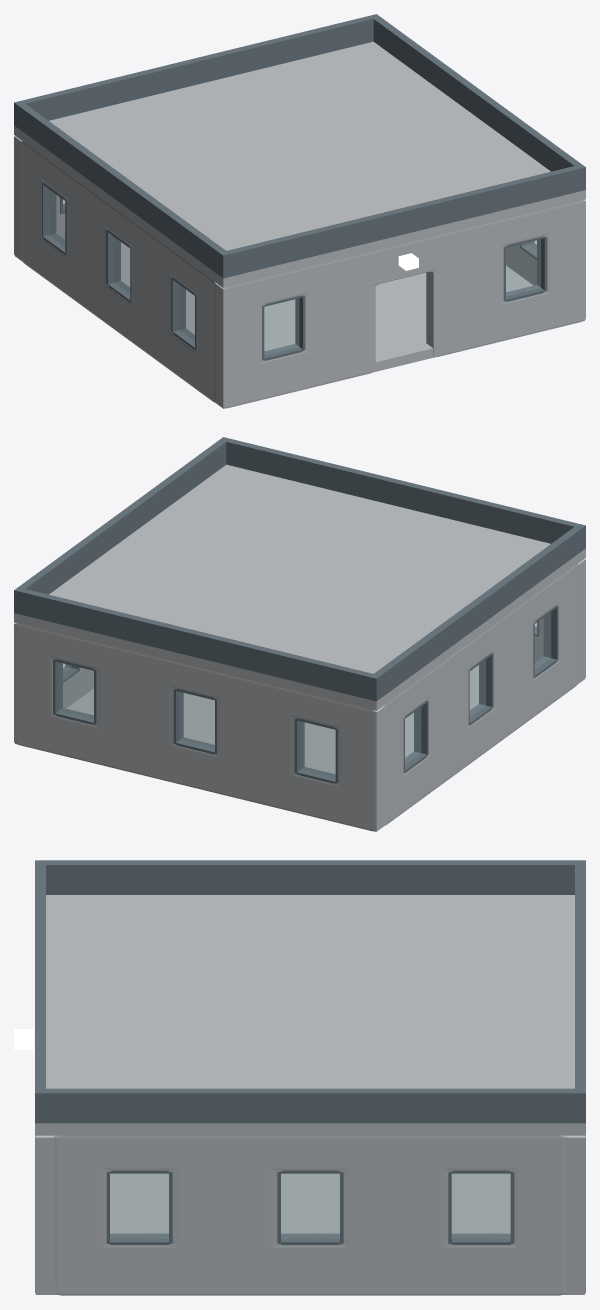
The model's file is bungalow_1_lod0.glb.
3 views of the same model, one above another, from view 1: azimuth 30°, elevation 25°; view 2: azimuth 150°, elevation 25°; view 3: azimuth 270°, elevation 25° (orthographic). The views are drawn at different scales.
Parts seen in each view (by area): view 1: Ceiling baked, Wall_0 baked, Wall_3 baked, Parapet baked, Parapet.002 baked, Floor baked, Parapet.001 baked, Parapet.003 baked, Glazing baked, Glazing.001 baked, Wall_1 baked, Wall_2 baked (+7 smaller); view 2: Ceiling baked, Wall_1 baked, Wall_3 baked, Parapet.002 baked, Parapet baked, Parapet.001 baked, Parapet.003 baked, Floor baked, Glazing.003 baked, Glazing.004 baked, Glazing.002 baked, Wall_0 baked (+9 smaller); view 3: Ceiling baked, Wall_2 baked, Parapet.003 baked, Parapet.001 baked, Floor baked, Glazing.005 baked, Glazing.006 baked, Glazing.007 baked, Wall_0 baked, Wall_1 baked, Parapet baked, Parapet.002 baked (+3 smaller).
Part boxes in pixels (x1,y1,x2,y2): Ceiling baked: [14, 41, 585, 287]; Wall_0 baked: [216, 200, 585, 408]; Wall_3 baked: [21, 141, 216, 402]; Parapet baked: [219, 164, 585, 278]; Parapet.002 baked: [14, 14, 380, 127]; Floor baked: [15, 242, 584, 408]; Parapet.001 baked: [18, 104, 225, 274]; Parapet.003 baked: [373, 17, 581, 171]; Glazing baked: [264, 299, 299, 354]; Glazing.001 baked: [506, 239, 540, 295]; Wall_1 baked: [14, 136, 65, 259]; Wall_2 baked: [506, 244, 536, 285]; Ceiling baked: [14, 464, 585, 710]; Wall_1 baked: [14, 623, 383, 831]; Wall_3 baked: [383, 564, 578, 825]; Parapet.002 baked: [14, 587, 380, 701]; Parapet baked: [219, 437, 585, 550]; Parapet.001 baked: [374, 527, 581, 697]; Parapet.003 baked: [18, 440, 226, 594]; Floor baked: [15, 665, 584, 831]; Glazing.003 baked: [179, 692, 214, 748]; Glazing.004 baked: [300, 722, 335, 777]; Glazing.002 baked: [59, 662, 93, 718]; Wall_0 baked: [534, 559, 585, 682]; Ceiling baked: [35, 895, 585, 1135]; Wall_2 baked: [54, 1135, 566, 1295]; Parapet.003 baked: [46, 1088, 574, 1123]; Parapet.001 baked: [46, 860, 574, 894]; Floor baked: [36, 1173, 584, 1294]; Glazing.005 baked: [110, 1174, 168, 1238]; Glazing.006 baked: [281, 1174, 339, 1238]; Glazing.007 baked: [452, 1174, 510, 1238]; Wall_0 baked: [35, 1135, 54, 1293]; Wall_1 baked: [566, 1135, 585, 1293]; Parapet baked: [35, 860, 45, 1123]; Parapet.002 baked: [575, 860, 585, 1123].
Bounding box in the file's own units: 10 × 4.05 × 10.38.
